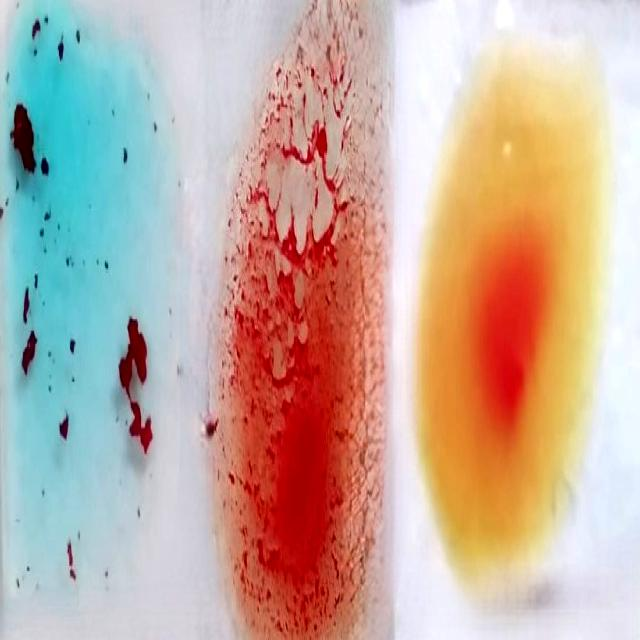A: (5, 1, 172, 616)
D: (213, 13, 383, 629)
